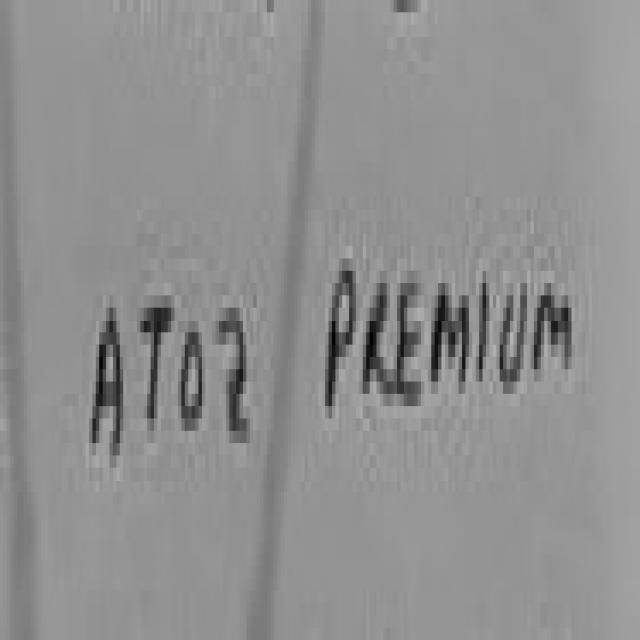A: (75, 281, 134, 485)
E: (392, 235, 429, 438)
I: (472, 238, 496, 414)
M: (429, 241, 474, 433), (533, 238, 576, 421)
O: (177, 250, 217, 499)
P: (312, 213, 361, 458)
R: (362, 244, 397, 429)
T: (128, 256, 178, 456)
U: (494, 244, 532, 427)
Z: (217, 250, 260, 493)
